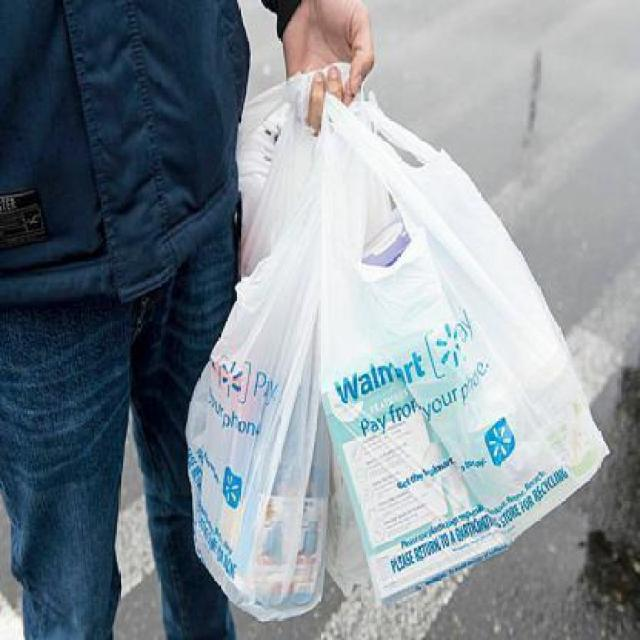plastic bag: (309, 101, 615, 557), (179, 116, 346, 638)
